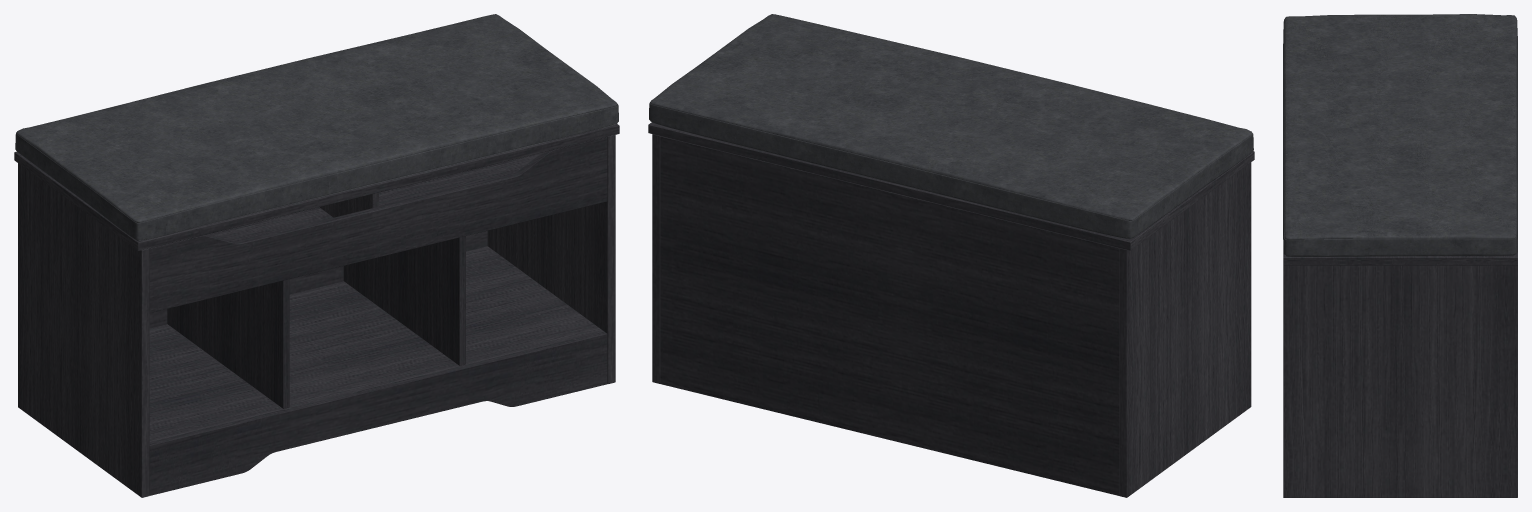
Rendered from classic_lift_top_shoe_bench.glb.
The picture shows the model from 3 angles, left to right: view 1: azimuth 30°, elevation 25°; view 2: azimuth 150°, elevation 25°; view 3: azimuth 270°, elevation 25°; orthographic projection. The views are drawn at different scales.
Parts seen in each view (by area): view 1: RootNode; view 2: RootNode; view 3: RootNode.
Boxes of the visible parts, x1,y1,x2,y2 form: RootNode: (14,14,619,497); RootNode: (648,14,1254,497); RootNode: (1283,14,1517,497).
Size of the model in its own units: 0.9051 by 0.501 by 0.4014.
1 material, 1 textured.
